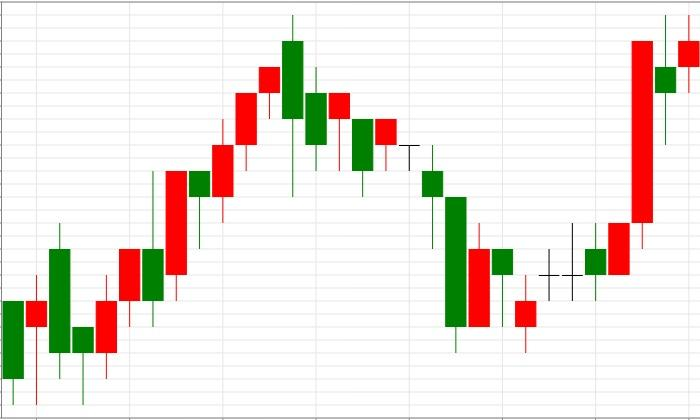bearish_engulfing_fall: (212, 15, 304, 225)
hanging_man_fall: (95, 171, 210, 380)
